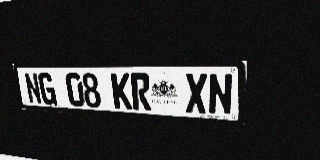0: (64, 73, 85, 107)
8: (81, 73, 102, 108)
G: (38, 73, 57, 105)
K: (111, 73, 132, 110)
N: (208, 73, 233, 115), (23, 73, 43, 104)
R: (130, 73, 152, 111)
X: (184, 73, 207, 114)
